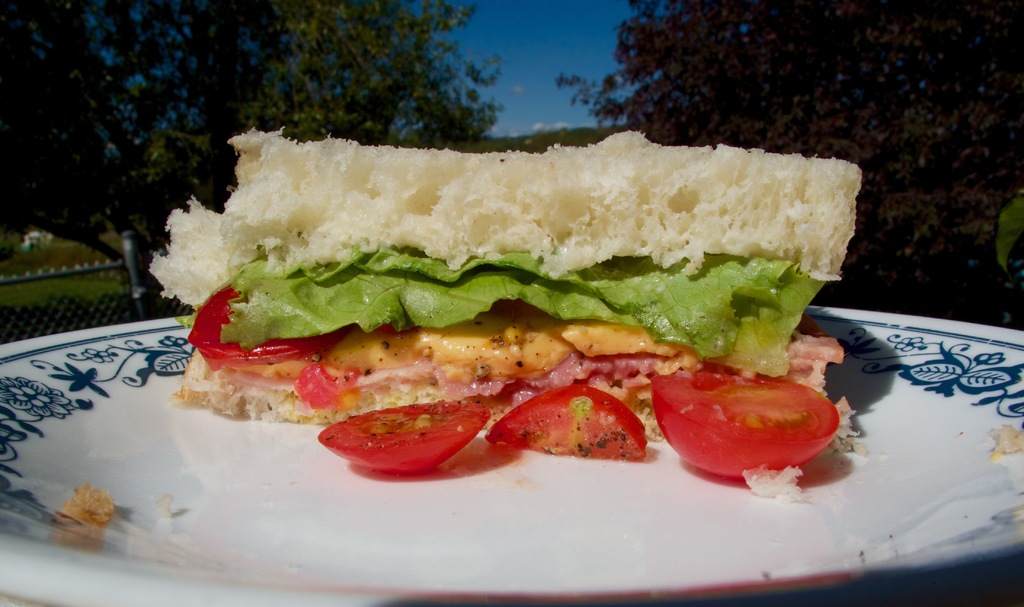Tomato: (657, 364, 851, 477), (487, 381, 646, 472), (317, 393, 492, 472)
